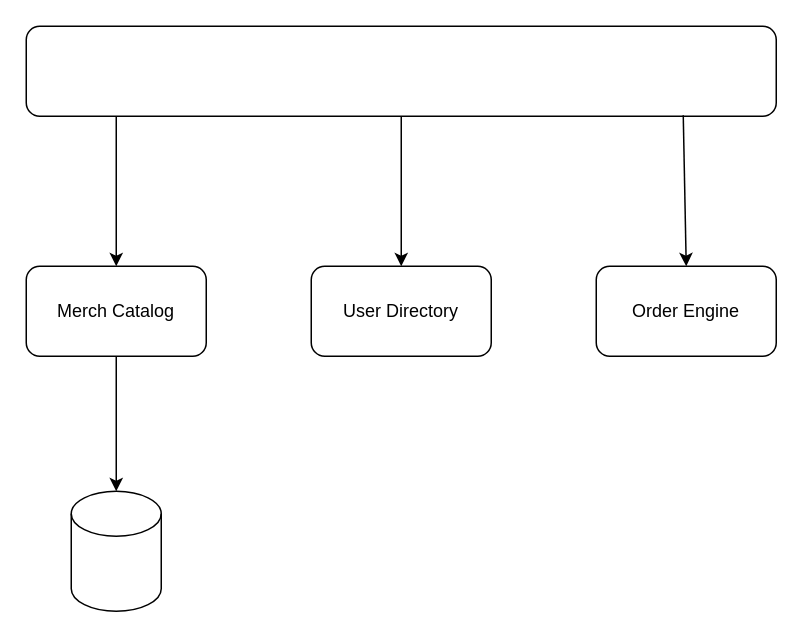
Image size: 803x638. Some labels were removed from this diagram. The centre of each missing label's shape, as x and y in pixels:
"API Gateway" belongs at [400,70].
"Merch DB" belongs at [115,550].
